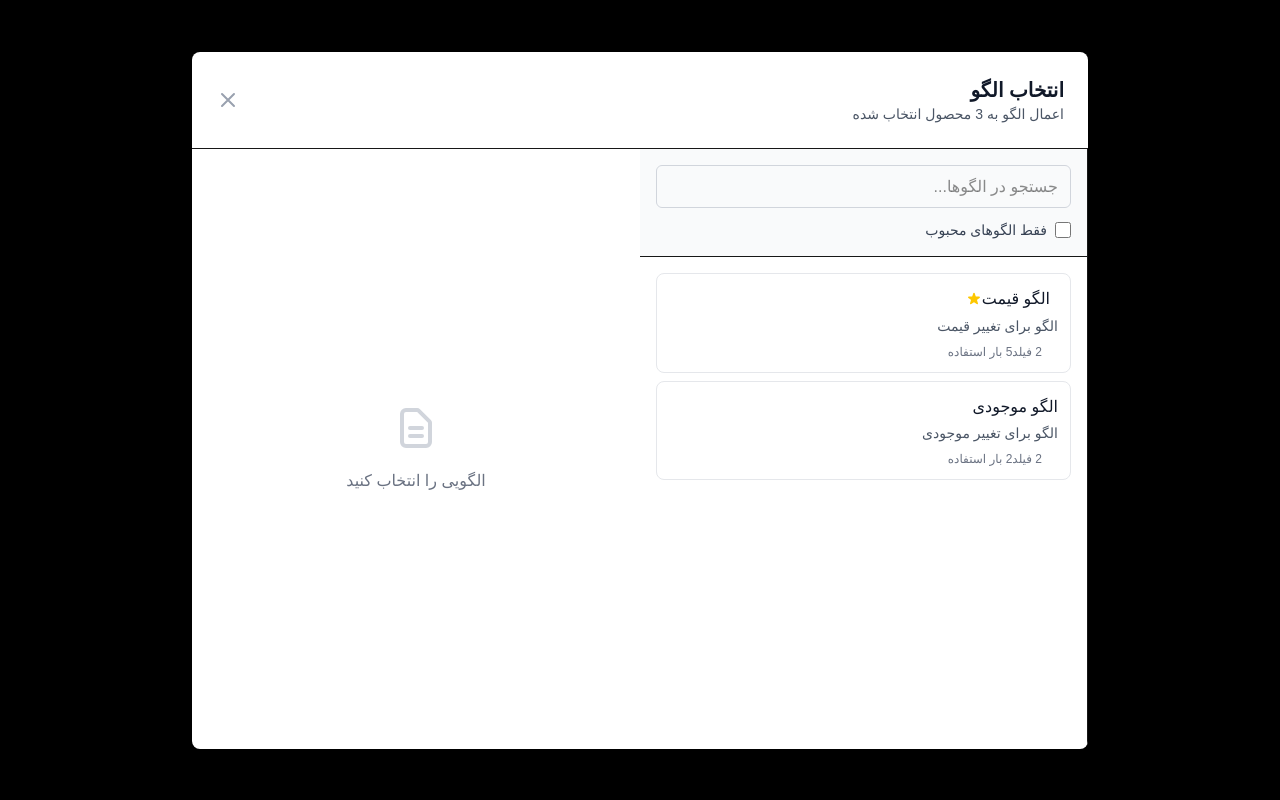
Test case: TemplateSelector › handles template selection
Click the heading "الگو قیمت" at (1016, 299), box top-left (982, 286), bottom-right (1050, 312)
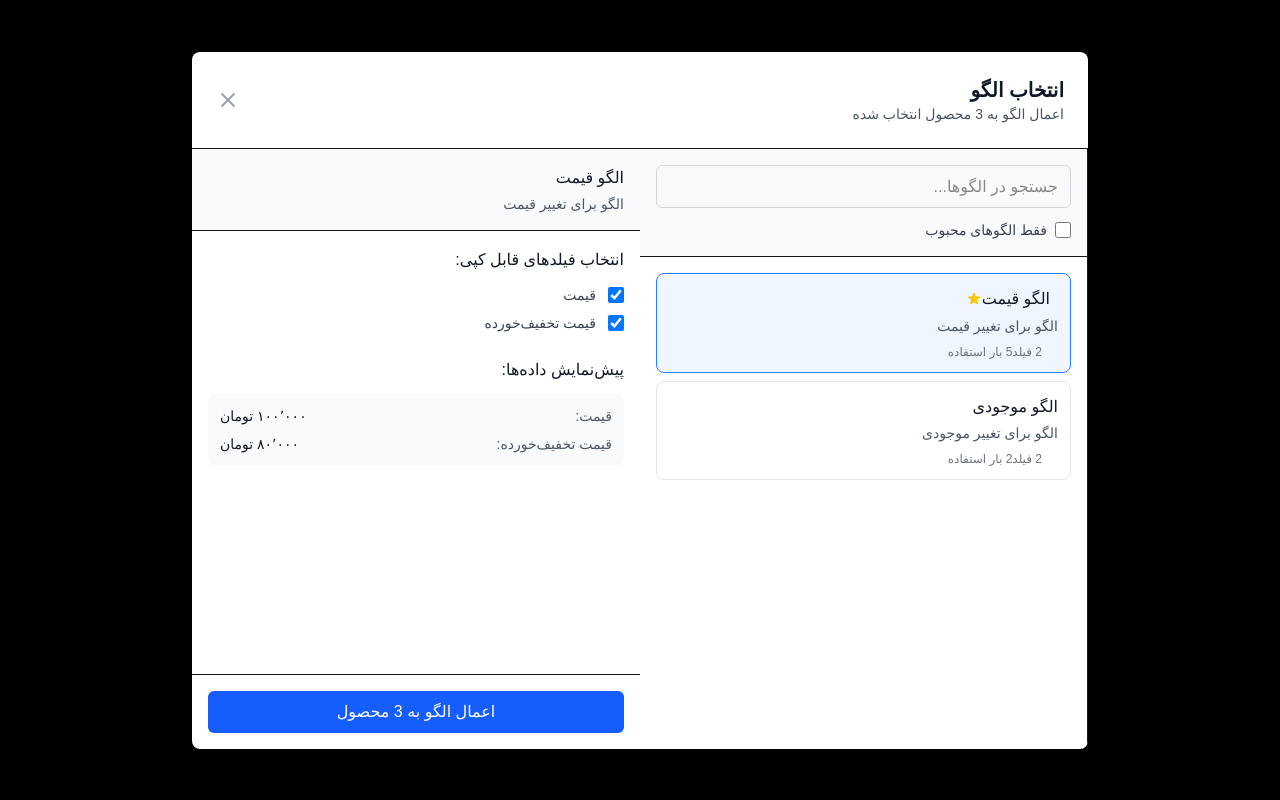
Result: the heading "انتخاب فیلدهای قابل کپی:" is shown at top-left (455, 251), bottom-right (624, 268)
